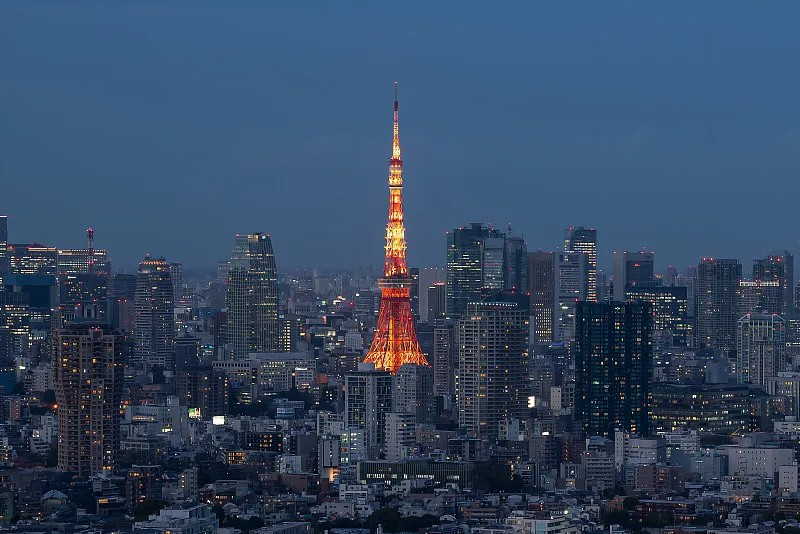Tokyo: (364, 80, 433, 376)
